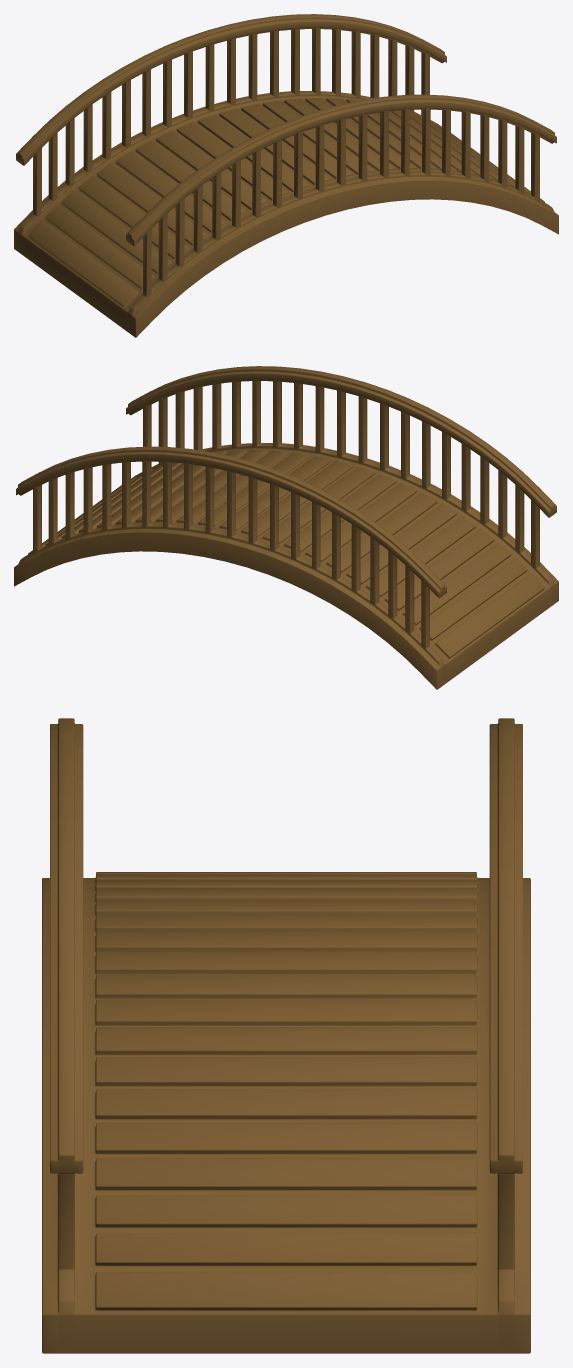
The model's file is ponte.glb.
3 renders of one model, top to bottom at view 1: azimuth 30°, elevation 25°; view 2: azimuth 150°, elevation 25°; view 3: azimuth 270°, elevation 25°, orthographic. The views are drawn at different scales.
Parts seen in each view (by area): view 1: Cube.001; view 2: Cube.001; view 3: Cube.001.
Boxes of the visible parts, x1,y1,x2,y2 form: Cube.001: [14, 14, 558, 337]; Cube.001: [14, 366, 558, 689]; Cube.001: [42, 718, 530, 1353].
Size of the model in its own units: 8 by 3.18 by 4.
